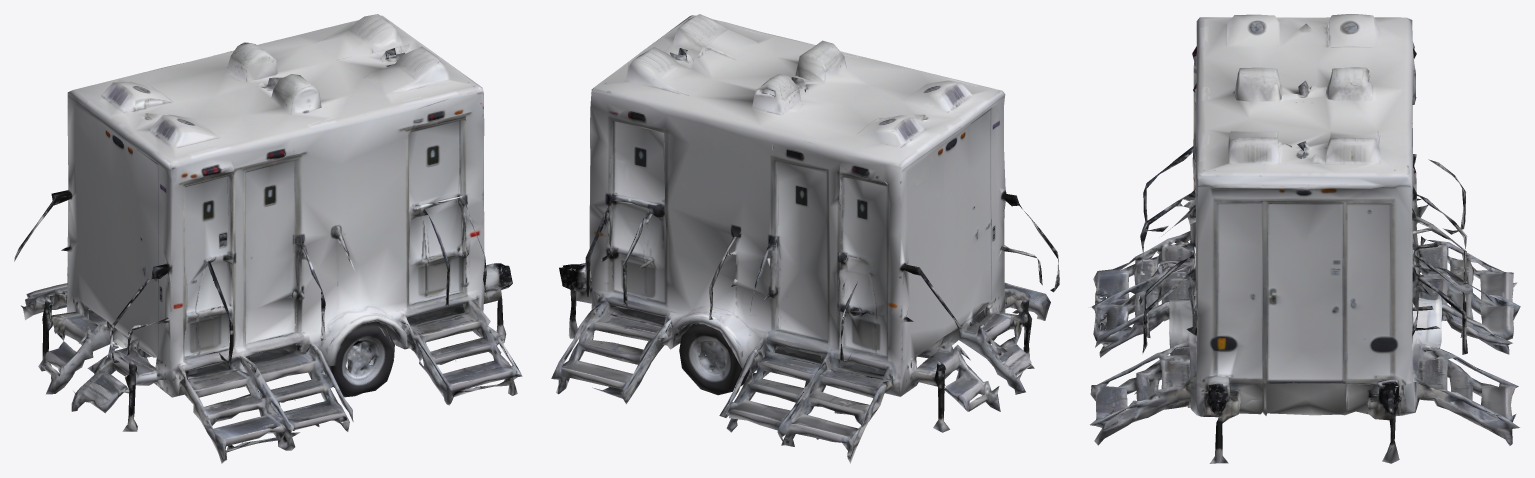
Rendered from WashroomTrailer.glb.
The picture shows the model from 3 angles, left to right: view 1: azimuth 30°, elevation 25°; view 2: azimuth 150°, elevation 25°; view 3: azimuth 270°, elevation 25°; orthographic projection. The views are drawn at different scales.
Parts seen in each view (by area): view 1: Mesh1.0; view 2: Mesh1.0; view 3: Mesh1.0.
Boxes of the visible parts, <box> form: Mesh1.0: <box>14,14,522,463</box>; Mesh1.0: <box>551,14,1059,463</box>; Mesh1.0: <box>1090,14,1520,463</box>.
Bounding box in the file's own units: 2 × 1.36 × 1.74.
1 material, 1 textured.
